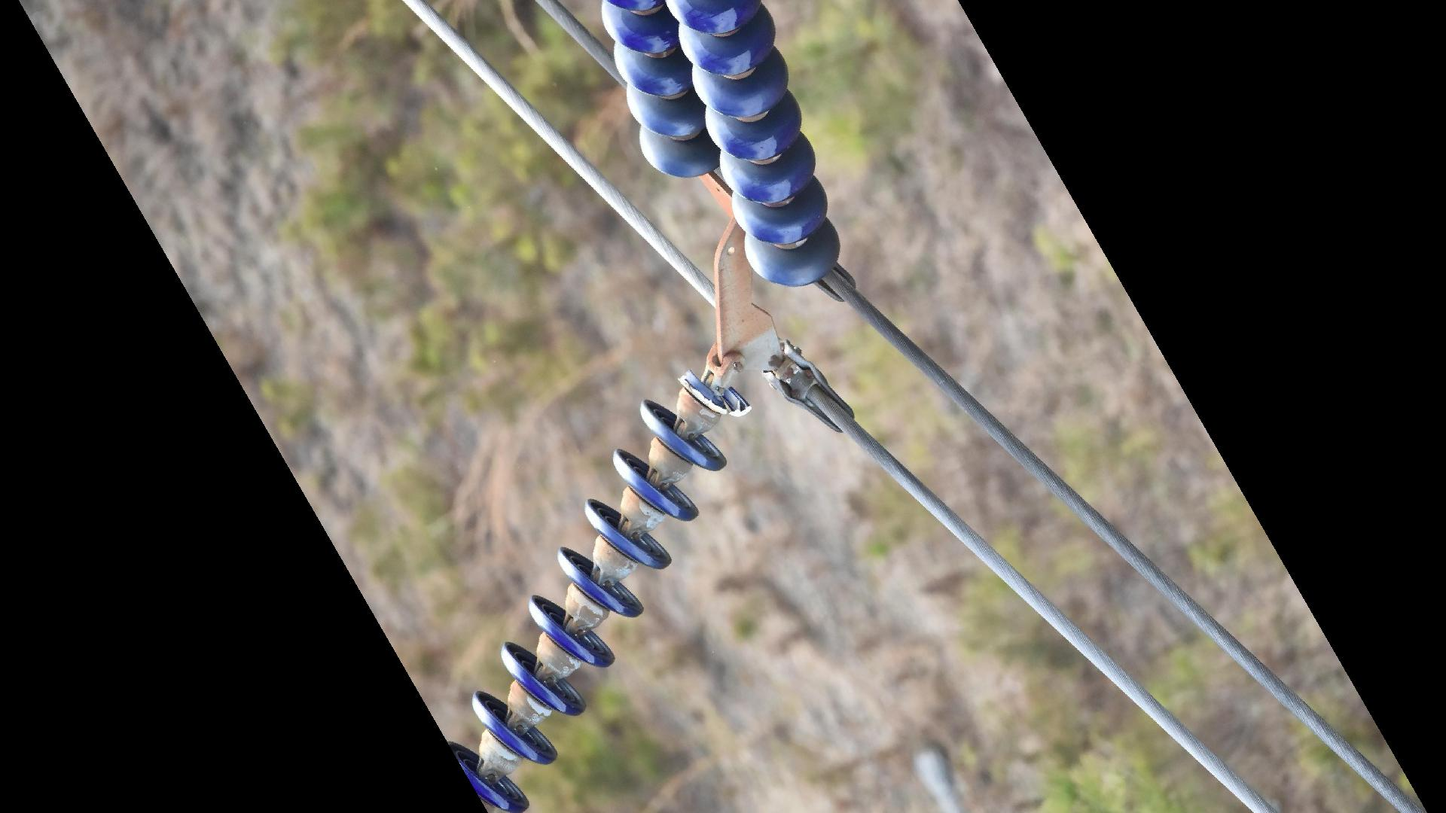insulator: (435, 367, 760, 813), (599, 1, 845, 297)
insulator_breakage: (673, 363, 756, 424)
